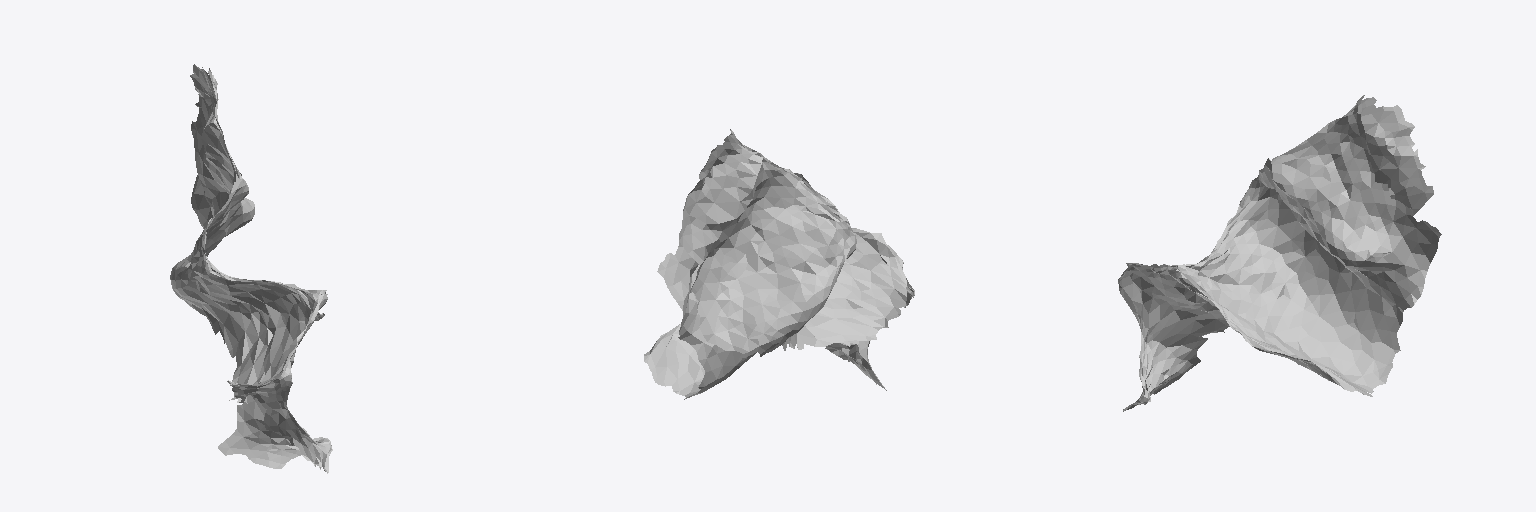
File: R_superior_occipital_and_transverse_occipital_sulci.obj
3 views of the same model, side by side, from view 1: azimuth 30°, elevation 25°; view 2: azimuth 150°, elevation 25°; view 3: azimuth 270°, elevation 25° (orthographic).
Visible parts, largest first — view 1: R_superior_occipital_and_transverse_occipital_sulci_L_superior_o; view 2: R_superior_occipital_and_transverse_occipital_sulci_L_superior_o; view 3: R_superior_occipital_and_transverse_occipital_sulci_L_superior_o.
Boxes of the visible parts, x1,y1,x2,y2 form: R_superior_occipital_and_transverse_occipital_sulci_L_superior_o: [170, 64, 332, 473]; R_superior_occipital_and_transverse_occipital_sulci_L_superior_o: [644, 129, 914, 399]; R_superior_occipital_and_transverse_occipital_sulci_L_superior_o: [1118, 95, 1441, 411].
Size of the model in its own units: 50.18 by 86.92 by 80.21.